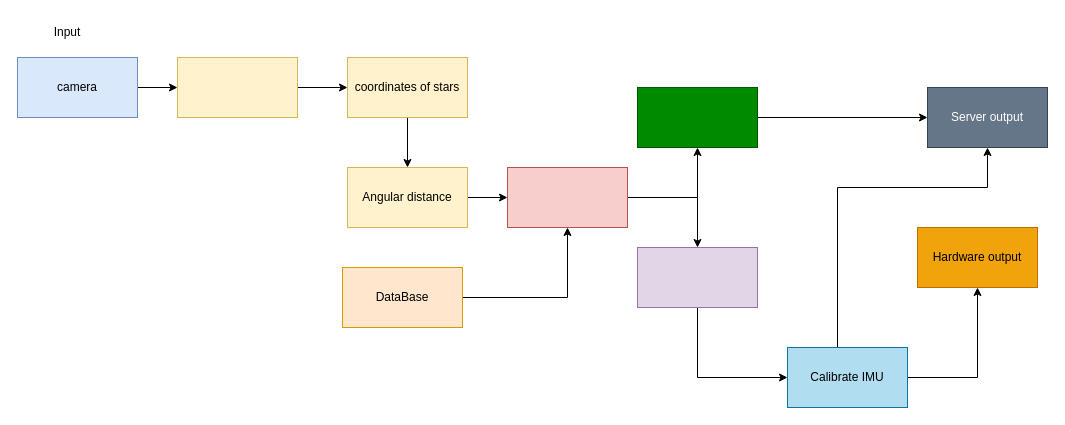
The diagram is 1065 pixels wide and 425 high, and some of its shapes have lost their labels. Here are the shapes that lost their labels. From the top down, the centre of each, then its label:
[237,87]: OpenCV
[697,117]: Display stars
[567,197]: Matches
[697,277]: Rotation matrix
